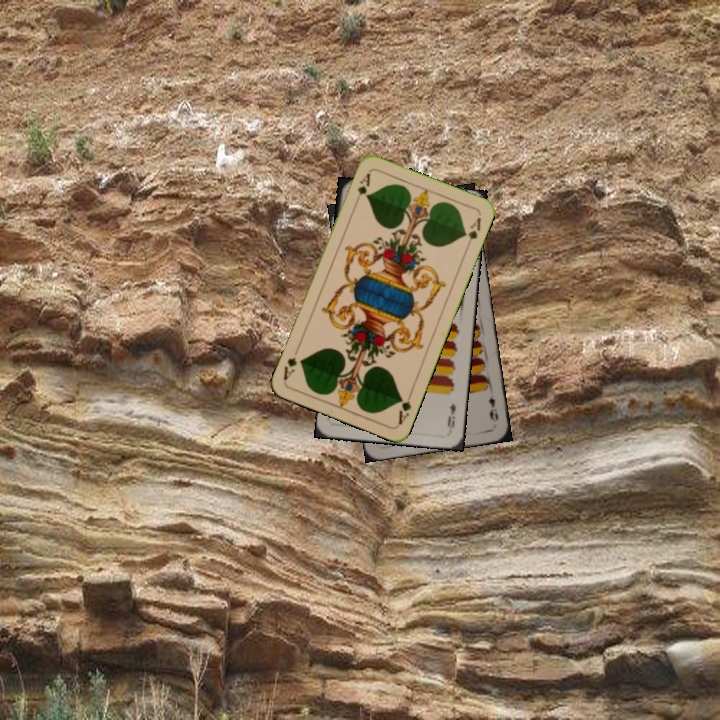E9: (484, 391, 501, 425), (443, 399, 459, 431)
GA: (350, 169, 373, 207), (394, 387, 415, 427)
